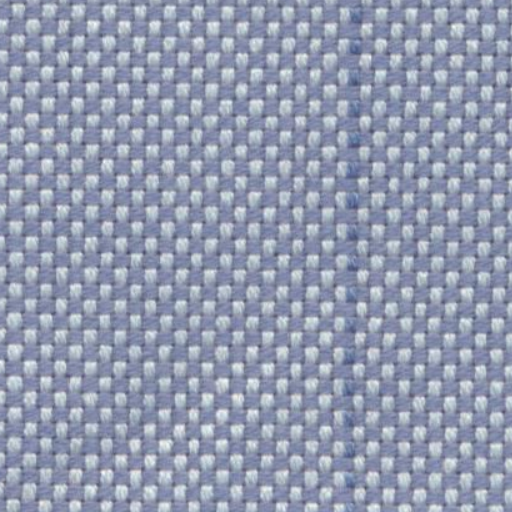TuoSha: (321, 12, 381, 502)
